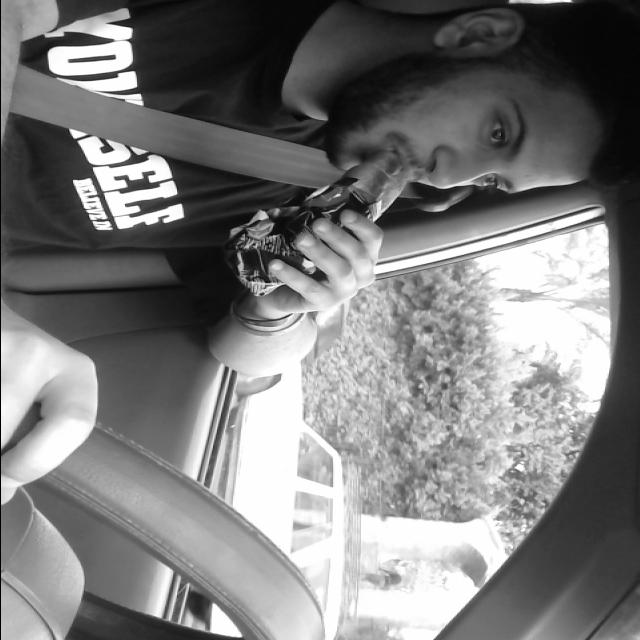eating: (230, 143, 416, 306)
